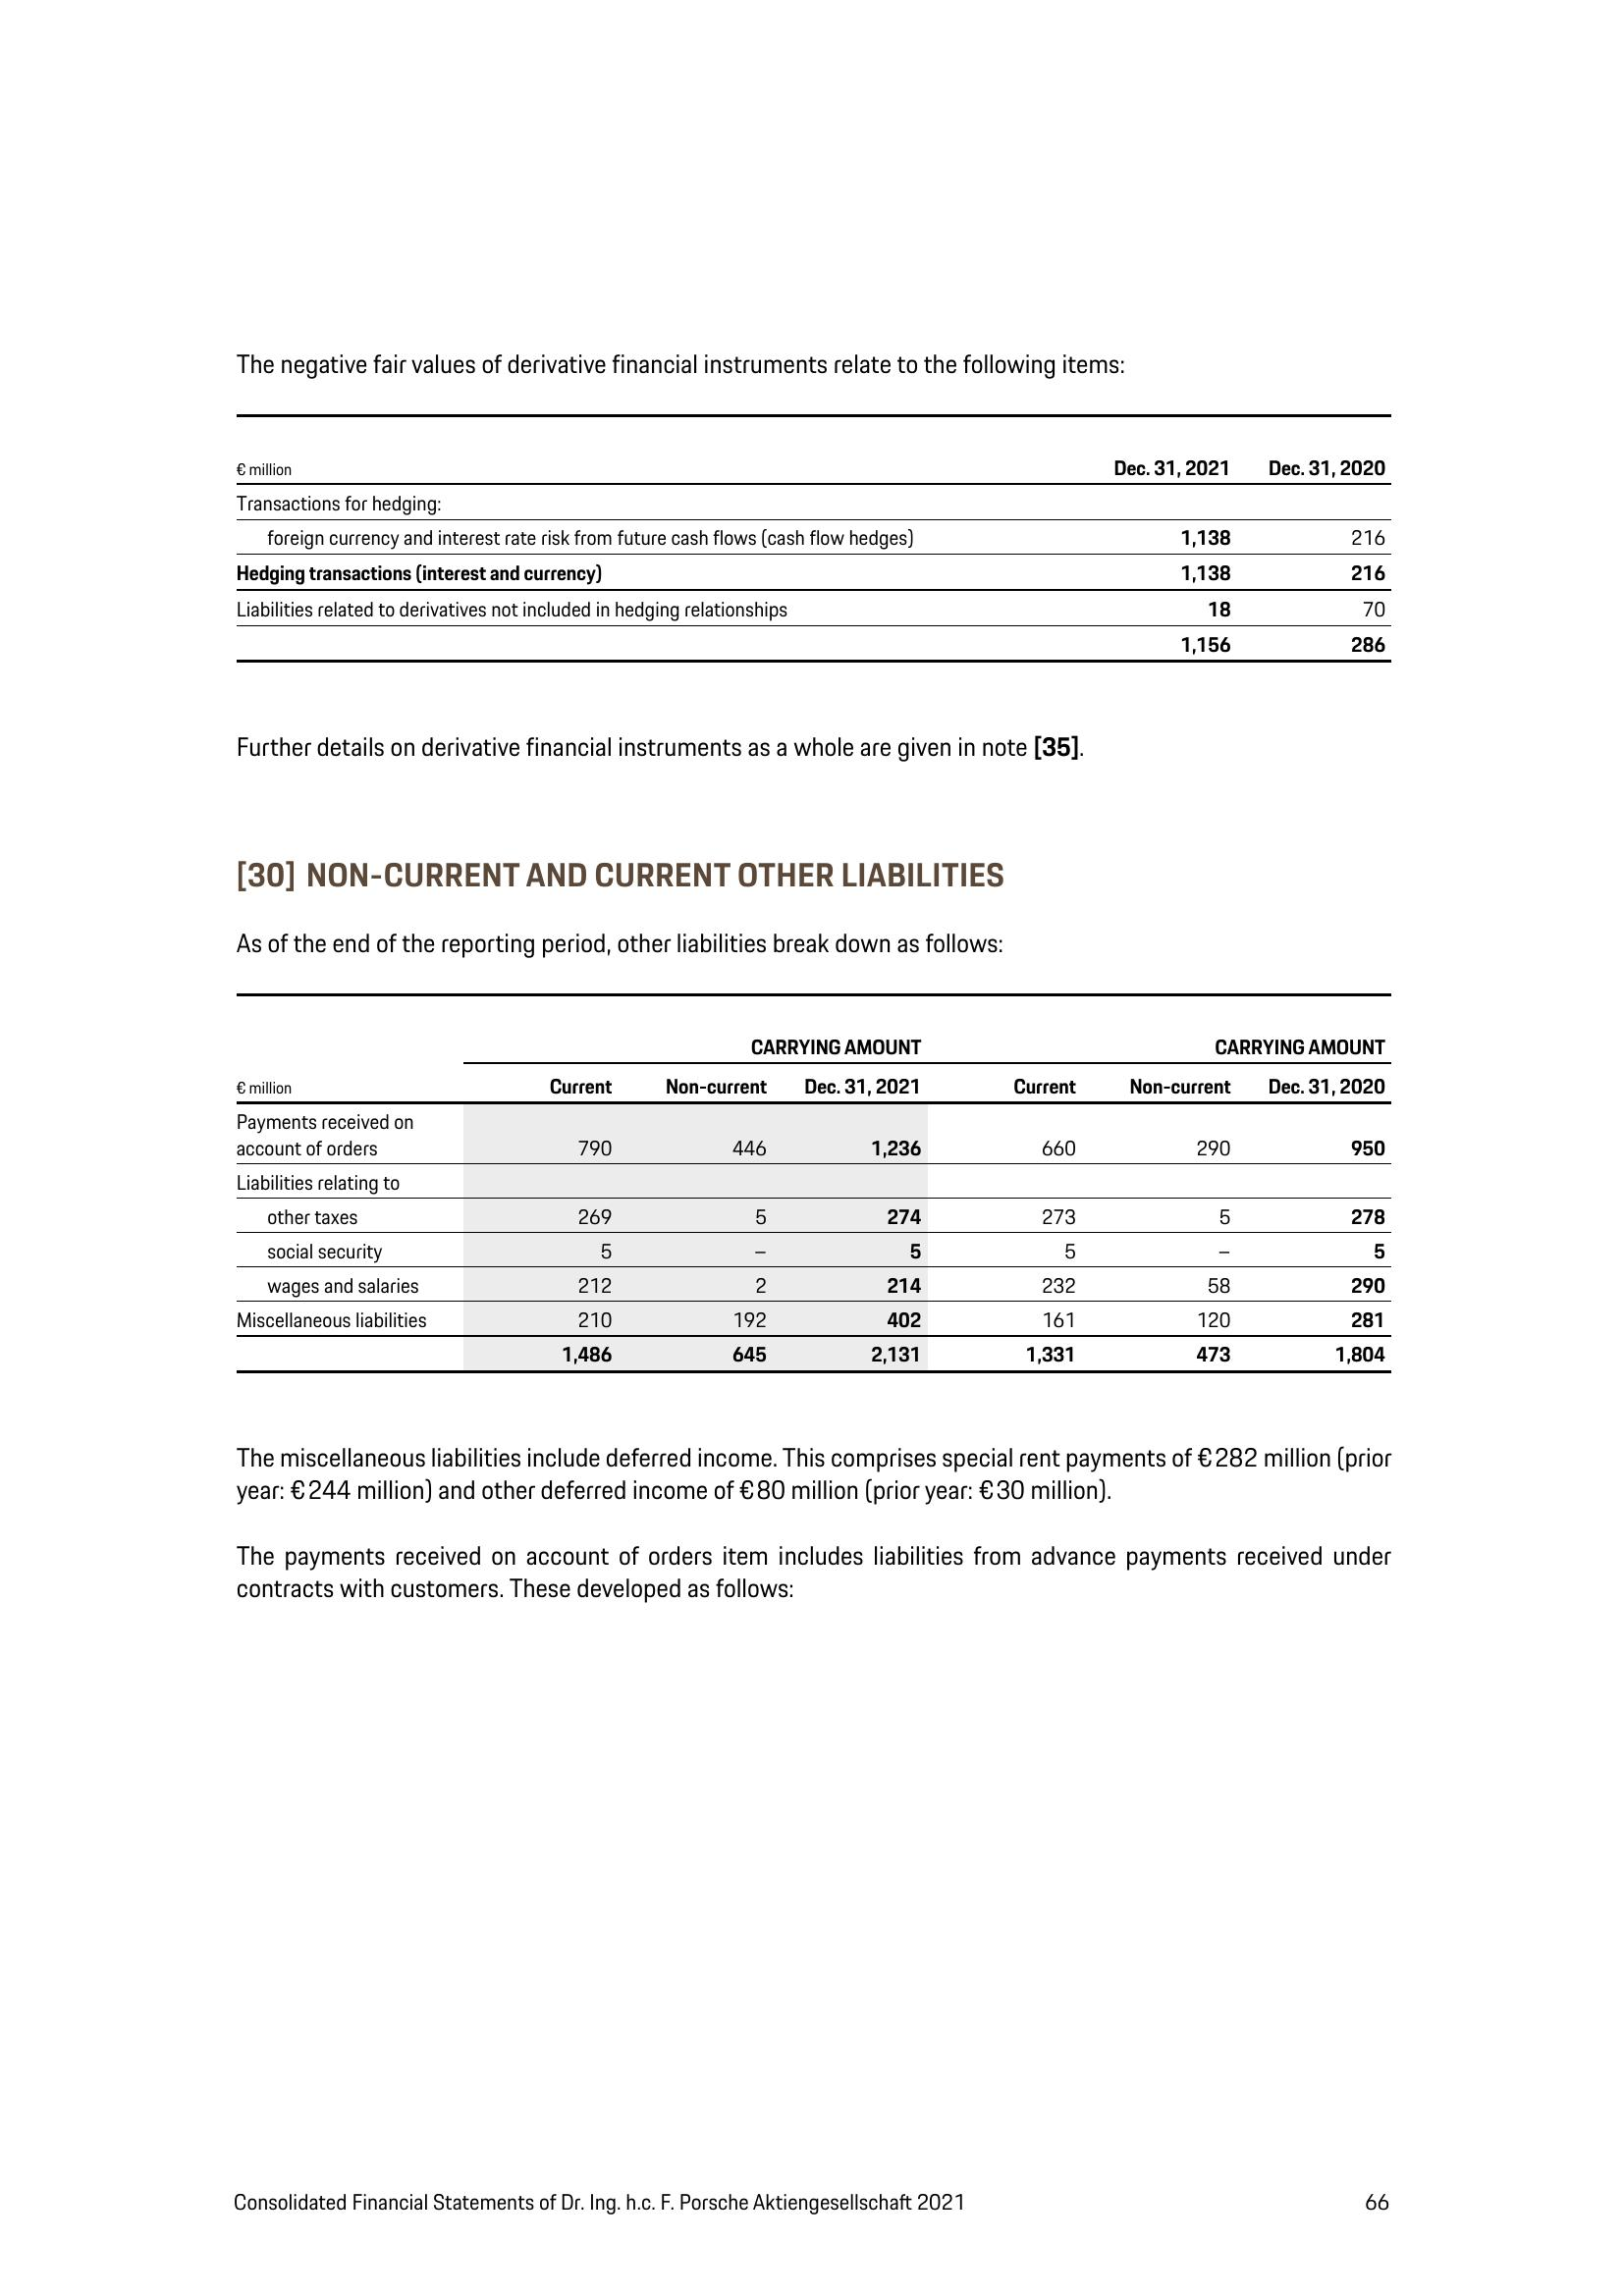Footer: (0, 2152, 1624, 2296)
Header: (0, 0, 1624, 214)
Table: (155, 1021, 1429, 1391), (167, 393, 1429, 717)
